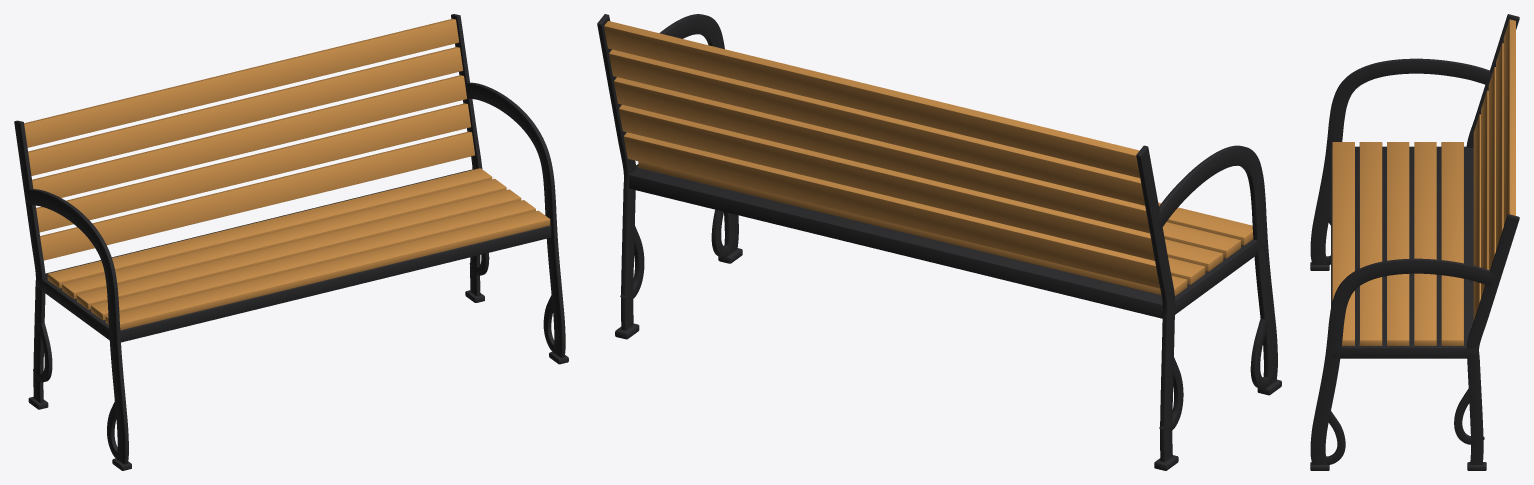
3 renders of one model, left to right at view 1: azimuth 30°, elevation 25°; view 2: azimuth 150°, elevation 25°; view 3: azimuth 270°, elevation 25°, orthographic. The views are drawn at different scales.
Parts seen in each view (by area): view 1: 靠背板_04, 靠背板_05, 靠背板_03, 靠背板_01, 靠背板_02, 座板_01, 铁架_座框横梁, 座板_05, 座板_04, 座板_03, 座板_02, 铁架_前腿扶手_L (+3 smaller); view 2: 靠背板_05, 靠背板_01, 靠背板_04, 靠背板_02, 靠背板_03, 铁架_座框横梁, 铁架_前腿扶手_L, 铁架_后腿靠背_L, 座板_05, 铁架_后腿靠背_R, 铁架_前腿扶手_R, 座板_01 (+3 smaller); view 3: 铁架_座框横梁, 铁架_前腿扶手_R, 铁架_前腿扶手_L, 座板_02, 座板_04, 座板_05, 座板_03, 座板_01, 铁架_后腿靠背_R, 靠背板_05, 靠背板_04, 靠背板_03 (+5 smaller).
Boxes of the visible parts, x1,y1,x2,y2 form: 靠背板_04: (28, 47, 463, 175); 靠背板_05: (24, 19, 458, 147); 靠背板_03: (32, 75, 466, 197); 靠背板_01: (40, 131, 474, 260); 靠背板_02: (36, 103, 471, 232); 座板_01: (105, 210, 550, 330); 铁架_座框横梁: (36, 169, 551, 342); 座板_05: (47, 168, 492, 288); 座板_04: (62, 178, 506, 299); 座板_03: (76, 189, 521, 309); 座板_02: (91, 200, 535, 320); 铁架_前腿扶手_L: (26, 189, 128, 464); 靠背板_05: (604, 21, 1140, 177); 靠背板_01: (624, 132, 1160, 288); 靠背板_04: (609, 49, 1145, 205); 靠背板_02: (619, 104, 1154, 260); 靠背板_03: (614, 77, 1149, 233); 铁架_座框横梁: (629, 164, 1264, 318); 铁架_前腿扶手_L: (1157, 145, 1277, 384); 铁架_后腿靠背_L: (1136, 145, 1175, 462); 座板_05: (638, 161, 1187, 295); 铁架_后腿靠背_R: (597, 14, 636, 330); 铁架_前腿扶手_R: (659, 14, 738, 255); 座板_01: (1158, 202, 1253, 245); 铁架_座框横梁: (1331, 146, 1477, 358); 铁架_前腿扶手_R: (1310, 258, 1494, 464); 铁架_前腿扶手_L: (1310, 58, 1491, 264); 座板_02: (1359, 142, 1382, 345); 座板_04: (1414, 142, 1436, 345); 座板_05: (1441, 142, 1463, 345); 座板_03: (1387, 142, 1409, 345); 座板_01: (1332, 142, 1354, 345); 铁架_后腿靠背_R: (1466, 214, 1519, 464); 靠背板_05: (1503, 19, 1515, 226); 靠背板_04: (1496, 43, 1503, 250); 靠背板_03: (1488, 67, 1495, 270).
Size of the model in its own units: 1.55 by 0.8969 by 0.6693.
